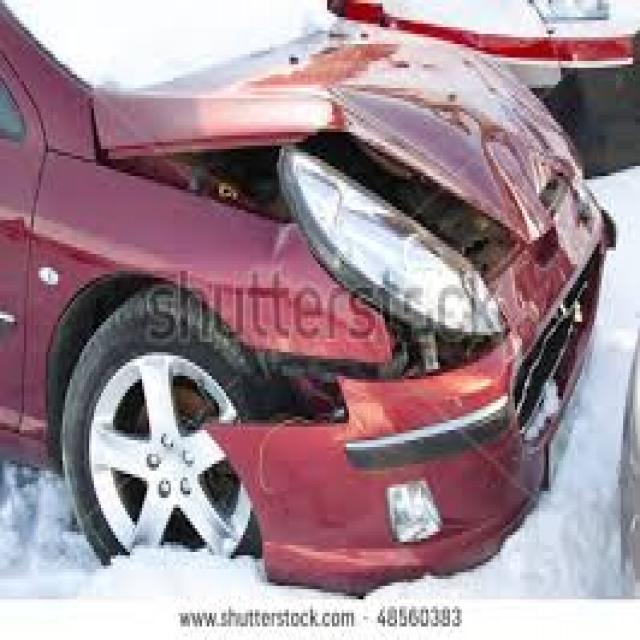moderate: (83, 11, 615, 568)
